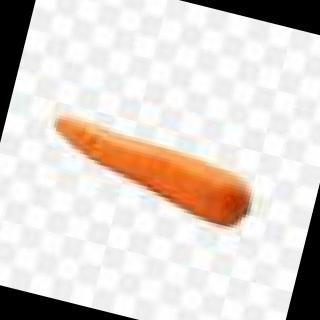Wortel: (29, 104, 270, 243)
